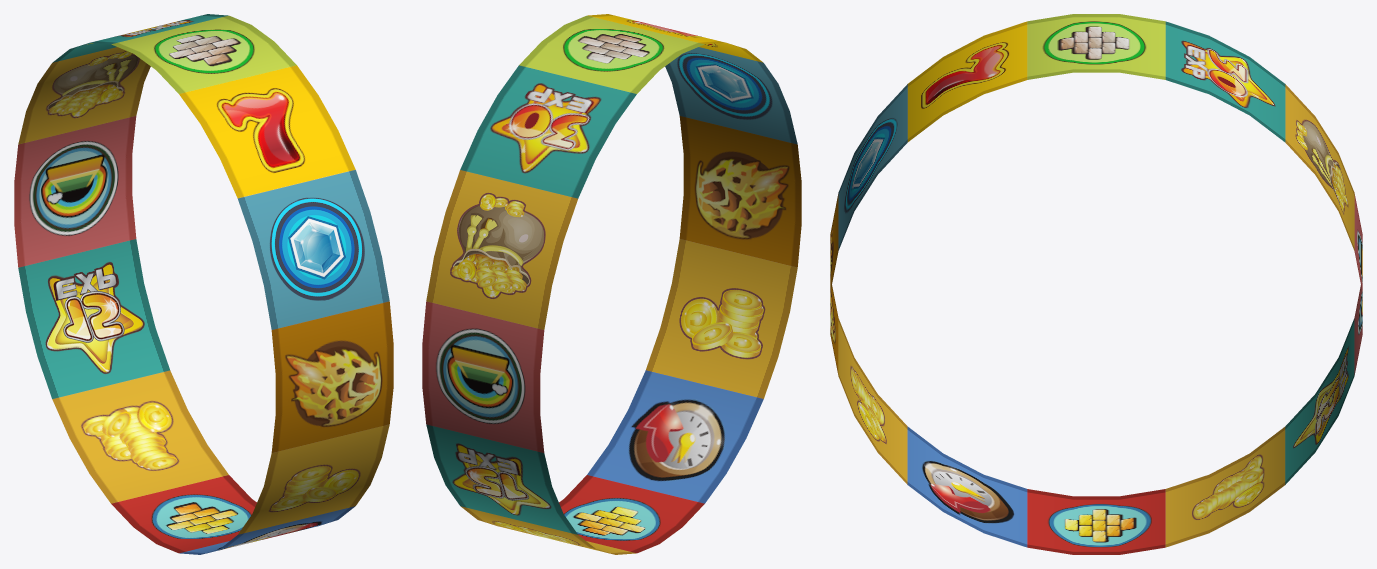
Rendered from xiaoxiong02_008.FBX.
The picture shows the model from 3 angles, left to right: view 1: azimuth 30°, elevation 25°; view 2: azimuth 150°, elevation 25°; view 3: azimuth 270°, elevation 25°; orthographic projection.
Parts seen in each view (by area): view 1: xiaoxiong02_008; view 2: xiaoxiong02_008; view 3: xiaoxiong02_008.
Boxes of the visible parts, <box> form: xiaoxiong02_008: <box>14,14,393,554</box>; xiaoxiong02_008: <box>422,14,801,554</box>; xiaoxiong02_008: <box>830,14,1362,554</box>.
Size of the model in its own units: 541 by 2073 by 2073.
